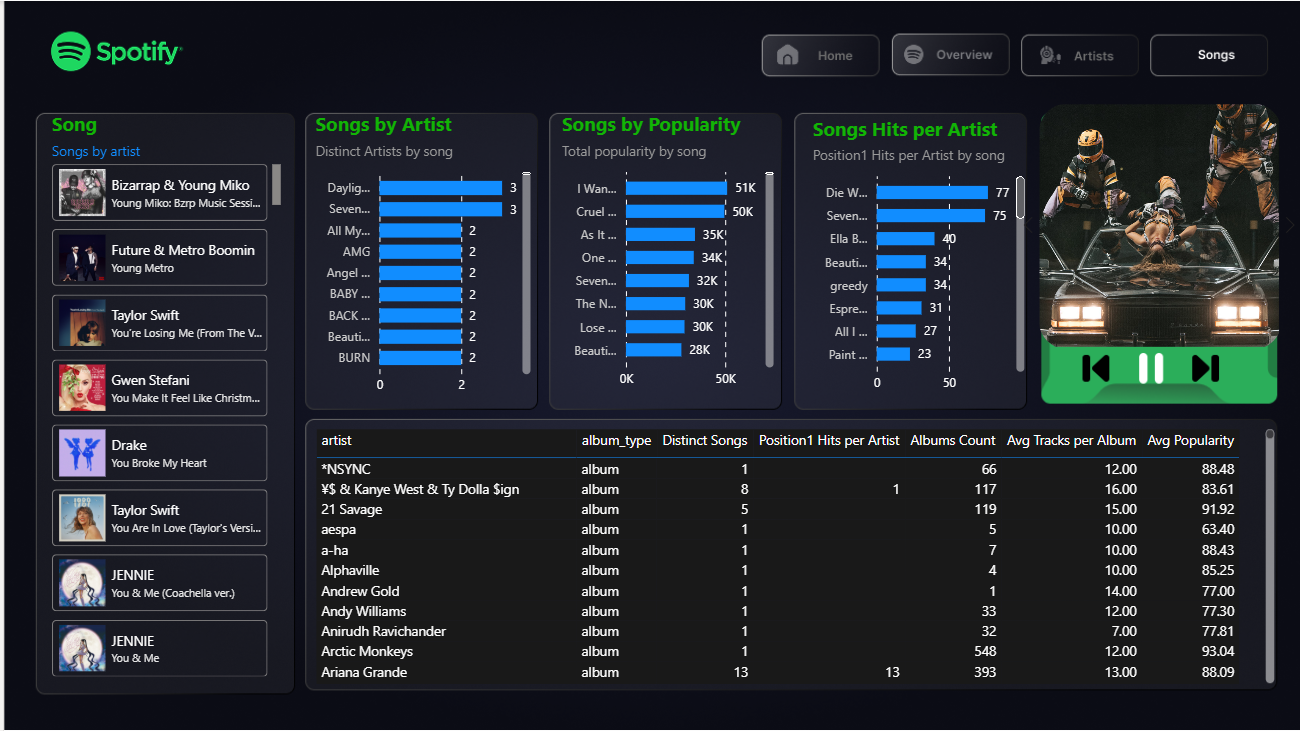

What the dashboard file says about the page in this screenshot:
{"tool":"powerbi","page":{"name":"song","canvas":[1280,720],"ordinal":3},"visuals":[{"type":"actionButton","box":[747.1,34.1,118.3,40],"z":0},{"type":"actionButton","box":[877.1,34.1,108.3,40],"z":1000},{"type":"actionButton","box":[1007.1,34.1,106.7,40],"z":2000},{"type":"actionButton","box":[1128.8,34.1,106.7,40],"z":3000},{"type":"image","box":[1162.2,346.2,40,30],"z":4000},{"type":"image","box":[1105.5,346.2,45,30],"z":5000},{"type":"image","box":[1053.8,346.2,40,30],"z":6000},{"type":"shape","box":[1015,95,243.3,288.3],"z":7000},{"type":"clusteredBarChart","title":"Songs by Artist","fields":{"Category":["Top-50-World.song"],"Y":["_Measure.Distinct Artists"]},"box":[301.7,108.3,221.7,288.3],"z":8000},{"type":"clusteredBarChart","title":"Songs by Popularity","fields":{"Y":["Sum(Top-50-World.popularity)"],"Category":["Top-50-World.song"]},"box":[543.3,108.3,218.3,281.7],"z":9000},{"type":"advancedSlicerVisual","title":"Song ","fields":{"Values":["Top-50-World.song"]},"box":[41.7,108.3,235,568.3],"z":10000},{"type":"clusteredBarChart","title":"Songs Hits per Artist","fields":{"Category":["Top-50-World.song"],"Y":["_Measure.Position1 Hits per Artist"]},"box":[790,111.7,218.3,281.7],"z":11000},{"type":"advancedSlicerVisual","title":"Song ","fields":{"Values":["Top-50-World.song"]},"box":[991.7,95,288.3,251.7],"z":11001},{"type":"tableEx","fields":{"Values":["Top-50-World.artist","Top-50-World.album_type","_Measure.Distinct Songs","_Measure.Position1 Hits per Artist","_Measure.Albums Count","_Measure.Avg Tracks per Album","_Measure.Avg Popularity"]},"box":[301.7,416.7,953.3,260],"z":11002}]}

Visuals, with their boxes in screenshot pixels (x1, y1, x2, y2), scaled from the page's 1280x720 canvas onto the 1300x731 screenshot:
actionButton: rect(759, 35, 879, 75)
actionButton: rect(891, 35, 1001, 75)
actionButton: rect(1023, 35, 1131, 75)
actionButton: rect(1146, 35, 1255, 75)
image: rect(1180, 351, 1221, 382)
image: rect(1123, 351, 1168, 382)
image: rect(1070, 351, 1111, 382)
shape: rect(1031, 96, 1278, 389)
"Songs by Artist" clusteredBarChart: rect(306, 110, 532, 403)
"Songs by Popularity" clusteredBarChart: rect(552, 110, 773, 396)
"Song " advancedSlicerVisual: rect(42, 110, 281, 687)
"Songs Hits per Artist" clusteredBarChart: rect(802, 113, 1024, 399)
"Song " advancedSlicerVisual: rect(1007, 96, 1299, 352)
tableEx - Top-50-World.artist x Top-50-World.album_type: rect(306, 423, 1275, 687)
